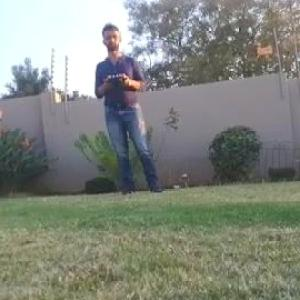follow: (92, 14, 171, 199)
